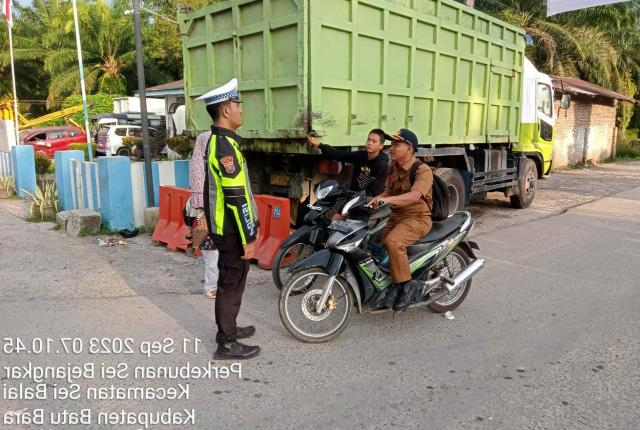motor: (276, 192, 479, 348)
non-helm: (389, 130, 422, 164), (365, 131, 387, 159)
